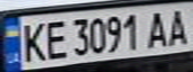0: (87, 13, 109, 55)
1: (121, 10, 145, 52)
3: (69, 16, 90, 57)
9: (103, 12, 127, 53)
A: (163, 6, 193, 47), (145, 8, 172, 48)
E: (39, 17, 69, 61)
K: (18, 19, 48, 64)
